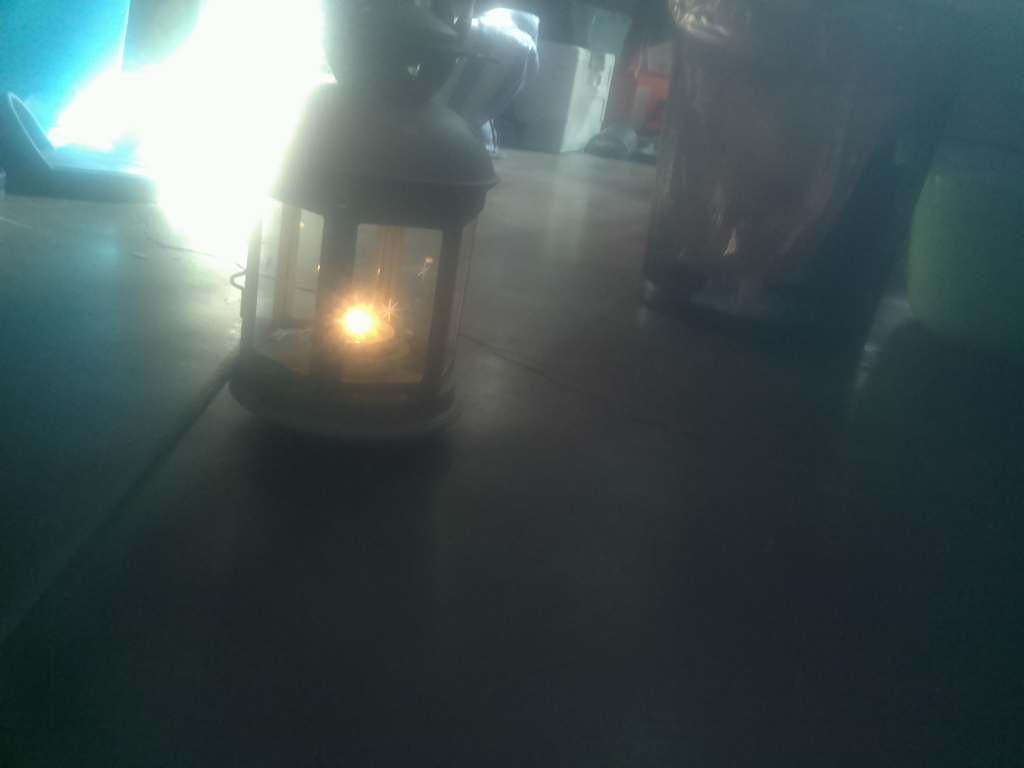fire: (317, 281, 412, 364)
